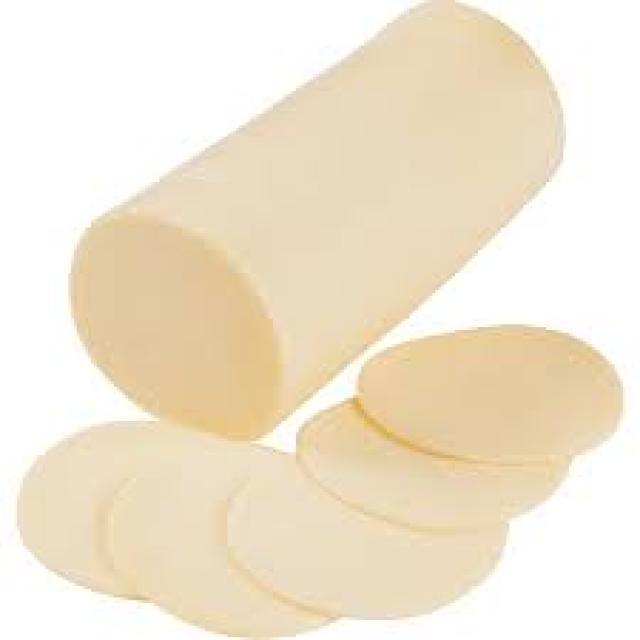cheese: (0, 315, 629, 635)
